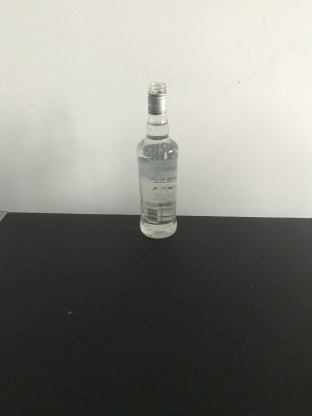nakretka: (146, 79, 168, 114)
